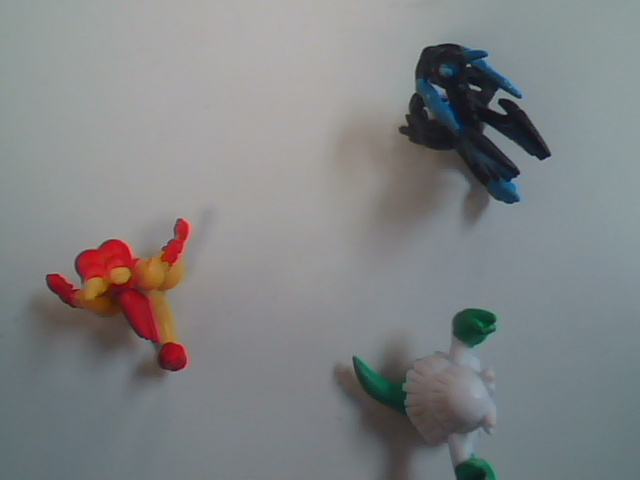abomasnow: (329, 295, 562, 480)
magmar: (45, 201, 262, 394)
